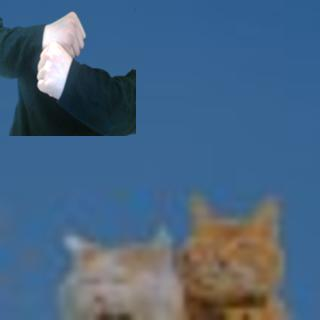CAREFUL: (26, 5, 91, 105)
